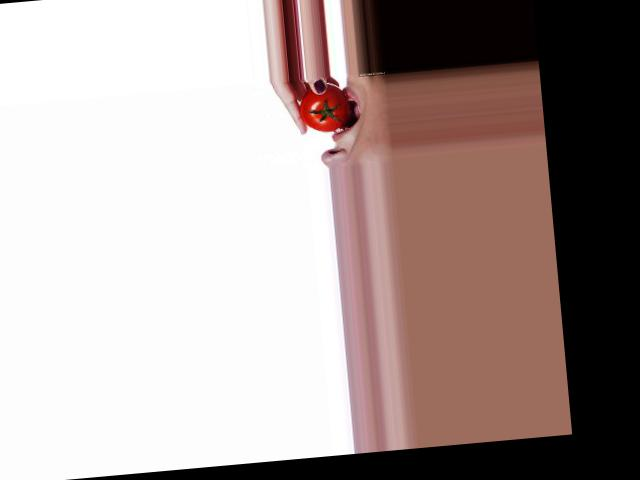tomato: (296, 80, 350, 133)
